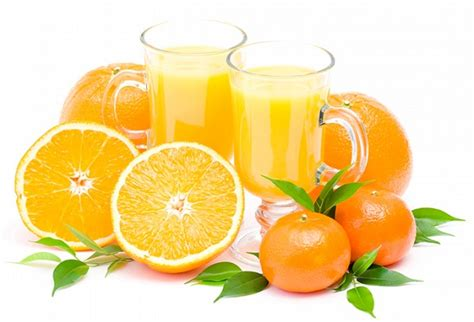orange: (320, 91, 416, 195), (60, 56, 150, 145), (260, 209, 351, 295), (336, 186, 419, 265)
